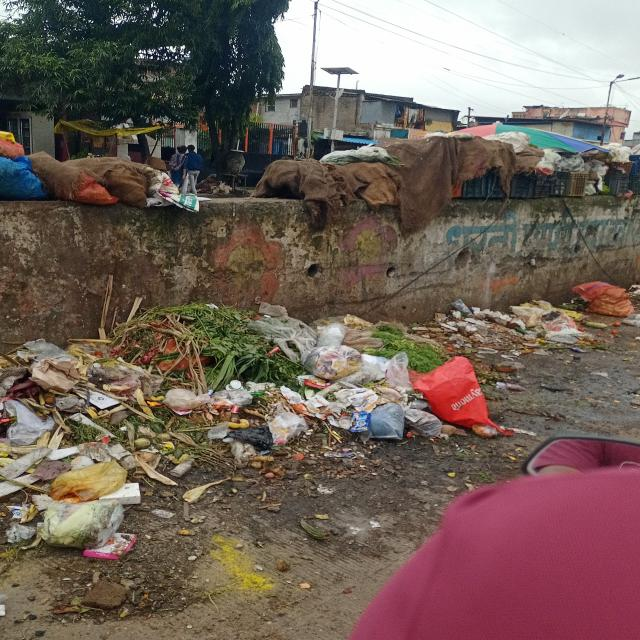garbage: (123, 296, 579, 469), (0, 336, 141, 548)
